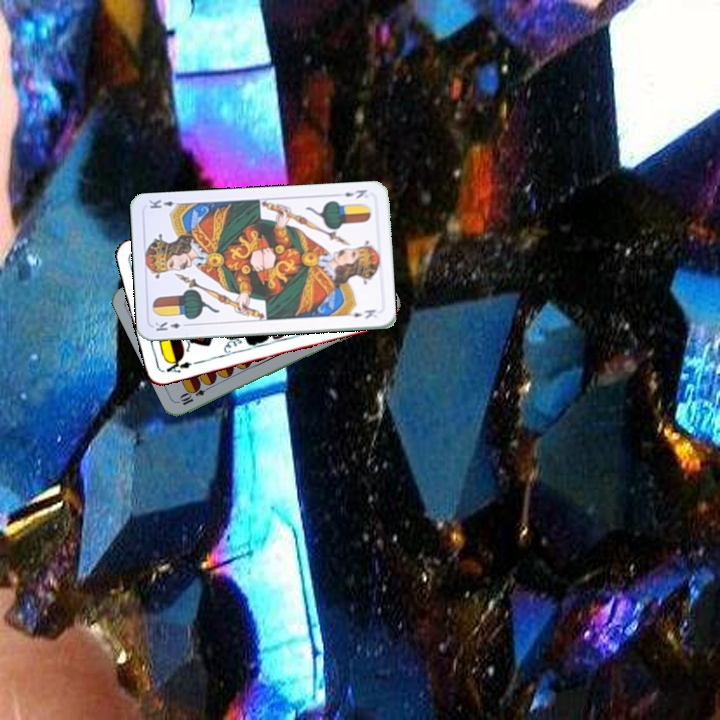E10: (176, 380, 215, 408)
EA: (162, 355, 194, 376)
EK: (151, 318, 192, 334), (333, 185, 369, 201)
